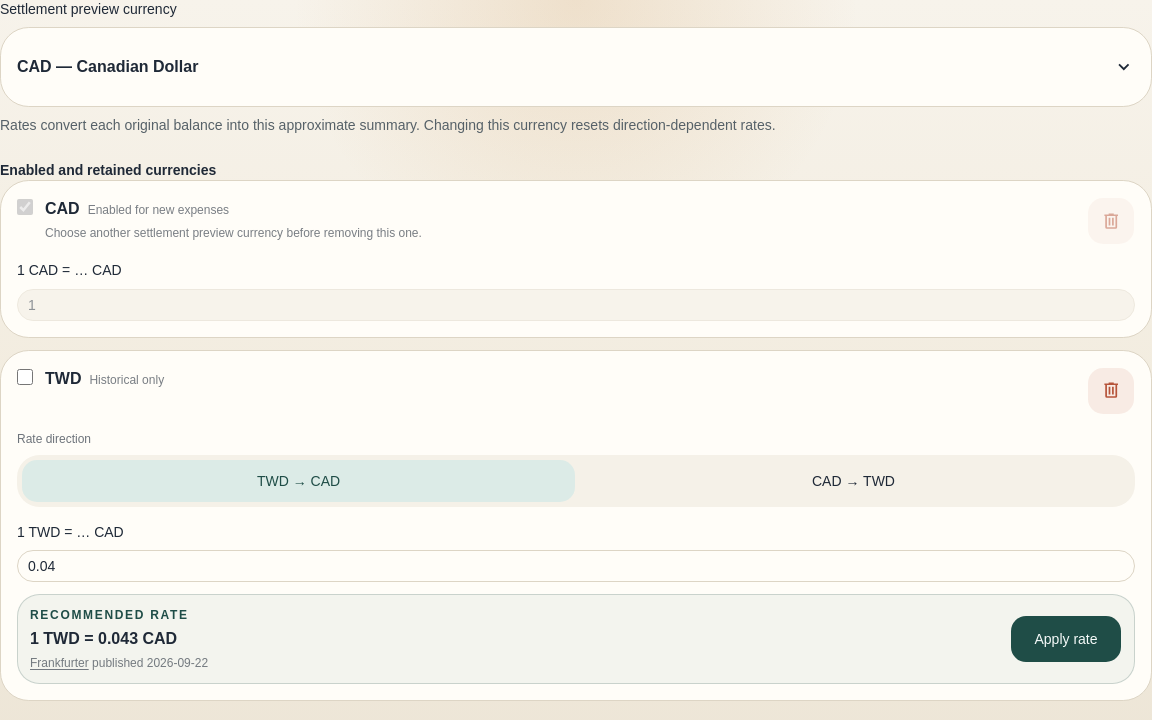
CurrencySettingsEditor › switches preview currency using cached recommendations
expect the text "1 TWD = 0.043 CAD" is shown: met, box [30, 630, 177, 647]
Click the button with aria-label "Currency": (108, 67) [0, 27, 1151, 107]
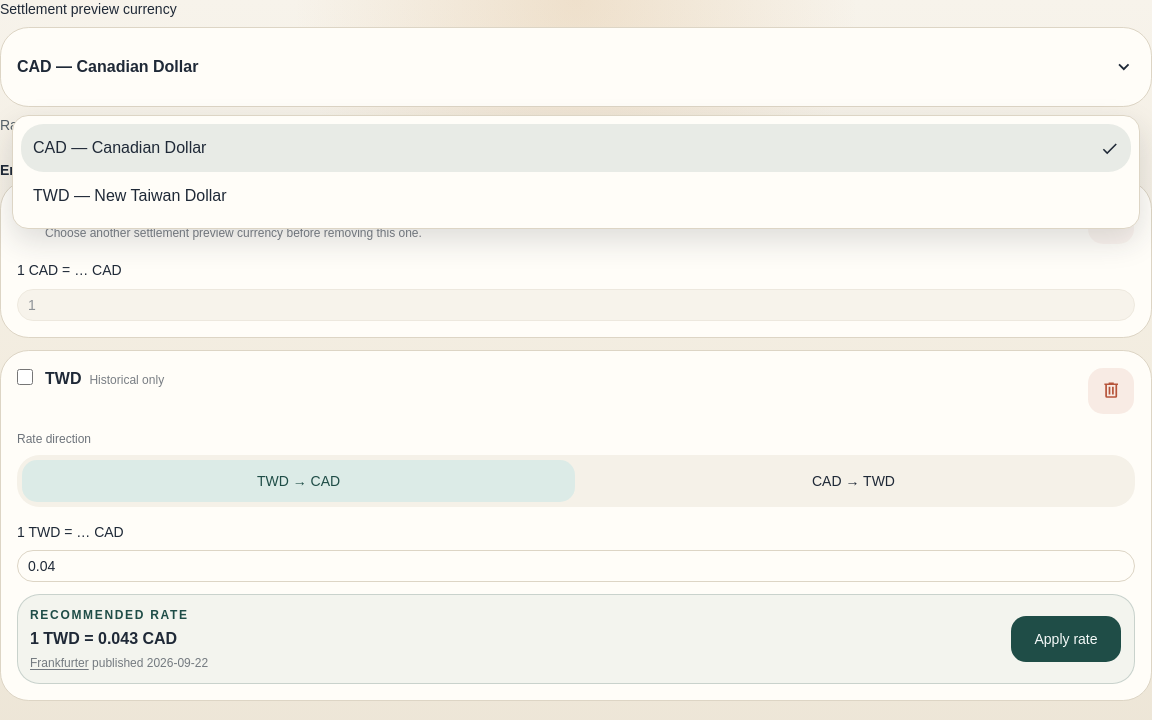
Click the option "TWD — New Taiwan Dollar": (51, 196) [21, 172, 1131, 220]
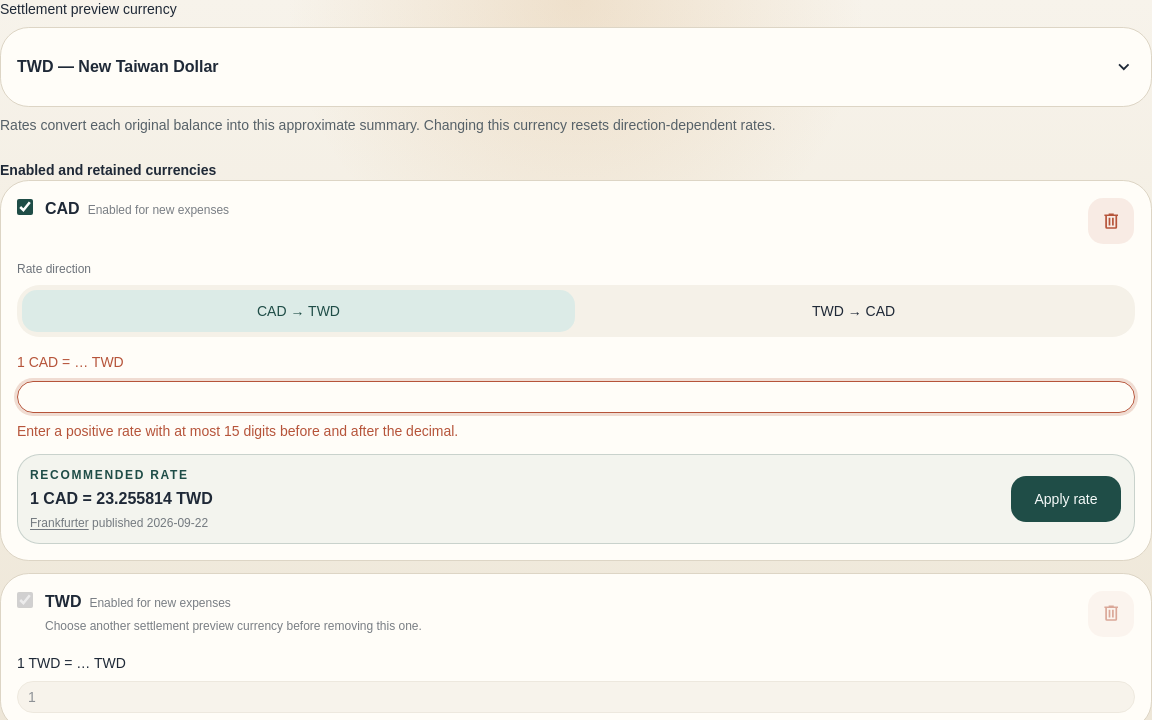
expect the text "TWD" is shown: met, box [45, 592, 81, 610]
expect the text "1 CAD = 23.255814 TWD" is shown: met, box [30, 486, 213, 510]
